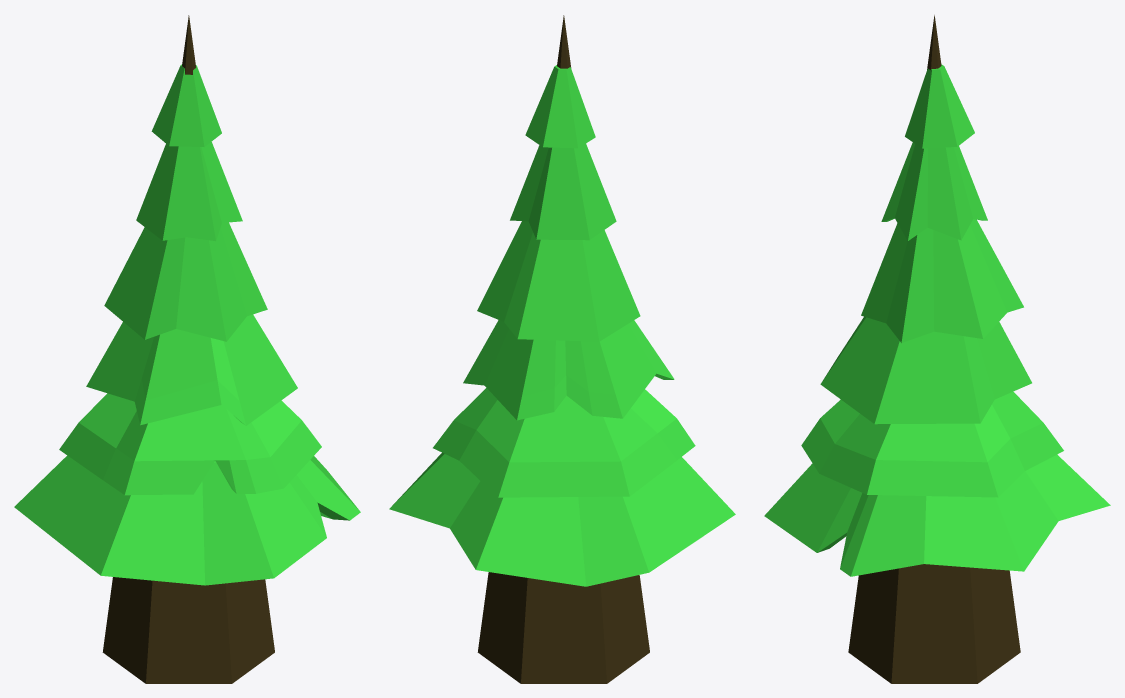
The model's file is Tree.glb.
The picture shows the model from 3 angles, left to right: view 1: azimuth 30°, elevation 25°; view 2: azimuth 150°, elevation 25°; view 3: azimuth 270°, elevation 25°; orthographic projection.
Visible parts, largest first — view 1: Cylinder.006, Cylinder; view 2: Cylinder.006, Cylinder; view 3: Cylinder.006, Cylinder.
Part boxes in pixels (<box>): Cylinder.006: <box>14,64,360,585</box>; Cylinder: <box>102,15,274,683</box>; Cylinder.006: <box>389,65,735,586</box>; Cylinder: <box>477,15,649,683</box>; Cylinder.006: <box>764,64,1110,576</box>; Cylinder: <box>848,15,1020,683</box>.
Bounding box in the file's own units: 3.47 × 8.04 × 3.96.
